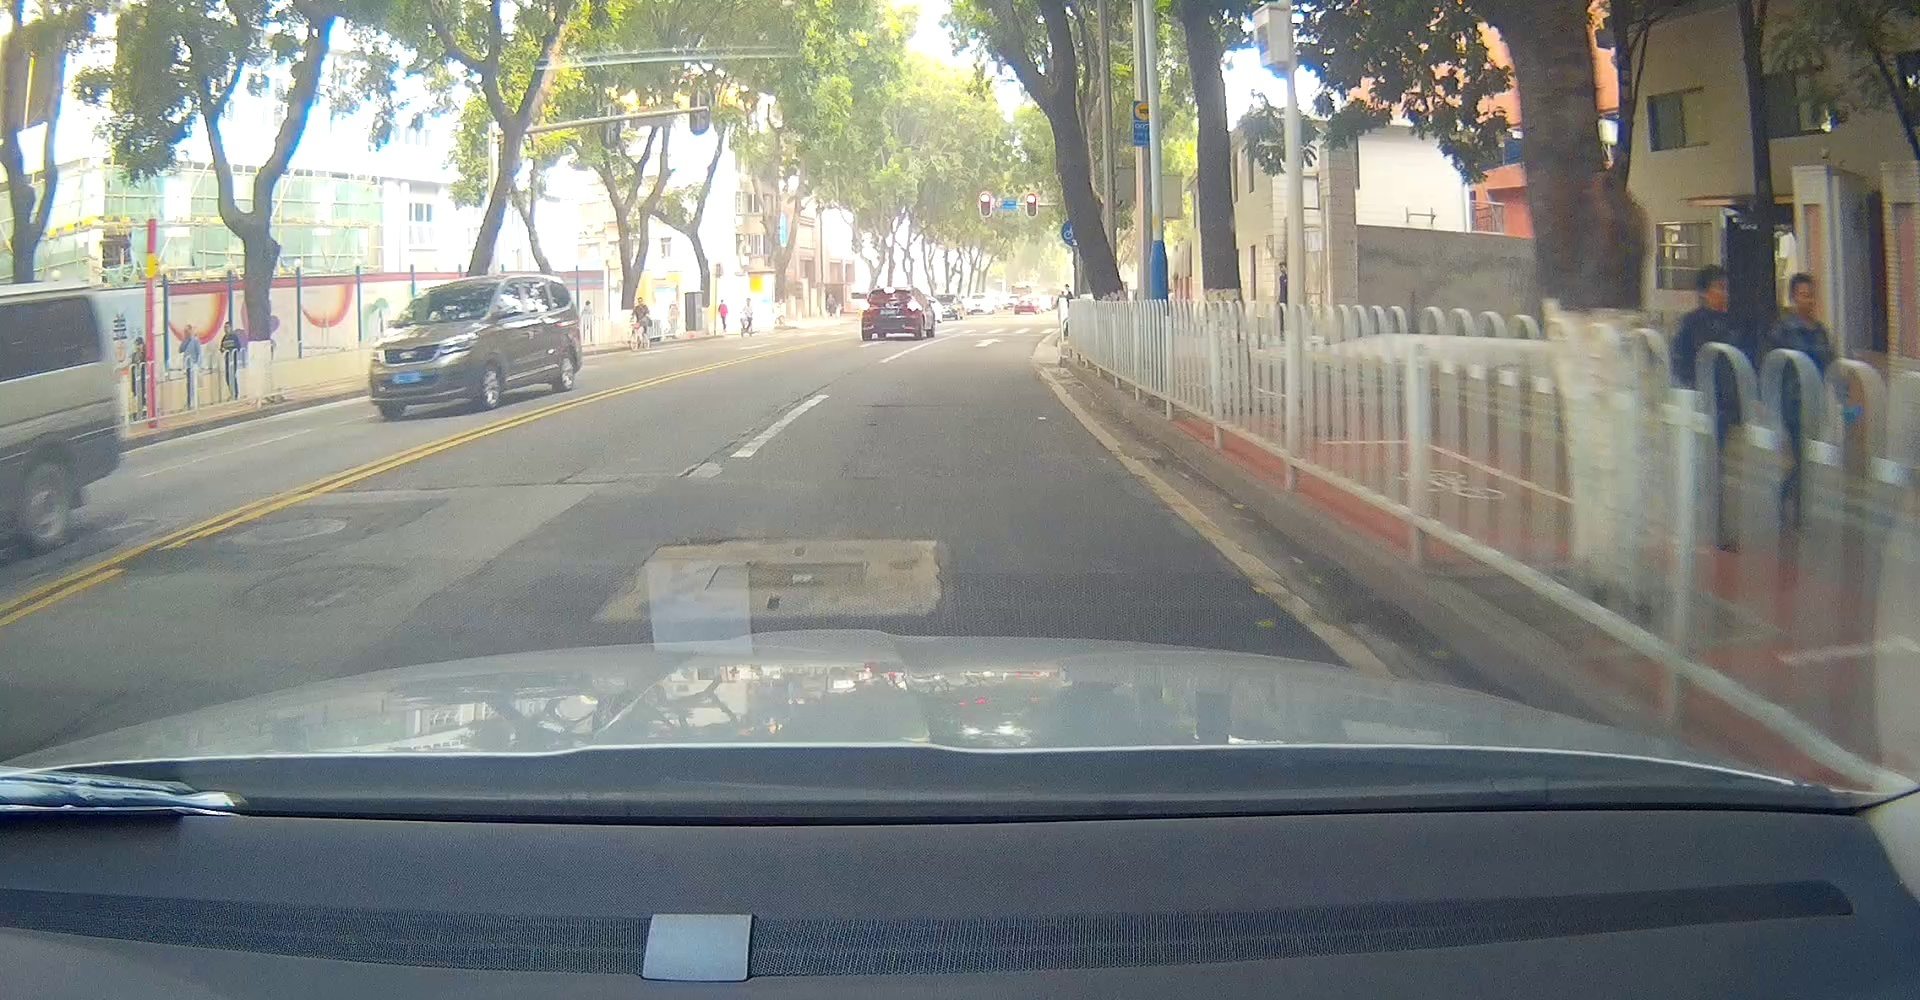L_light: (861, 303, 877, 311)
R_light: (902, 302, 921, 311)
T_light: (883, 287, 897, 294)
day-brake: (861, 287, 922, 341)
